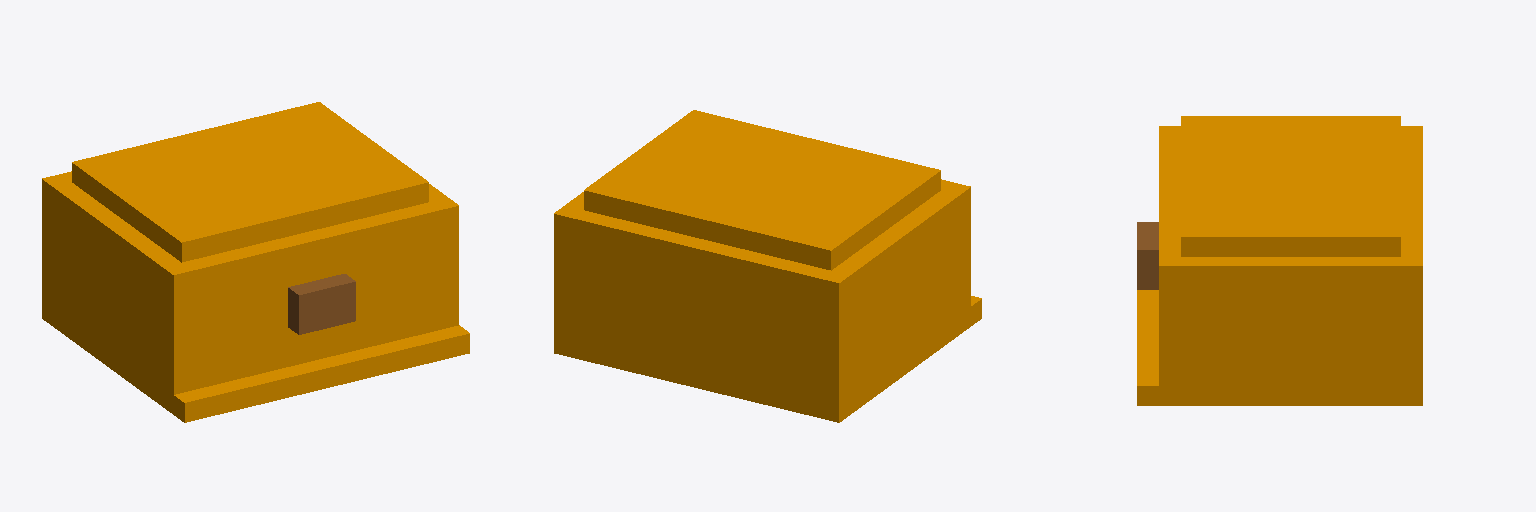
3 renders of one model, left to right at view 1: azimuth 30°, elevation 25°; view 2: azimuth 150°, elevation 25°; view 3: azimuth 270°, elevation 25°, orthographic.
Parts seen in each view (by area): view 1: breadBox; view 2: breadBox; view 3: breadBox.
Boxes of the visible parts, box(x1,y1,x2,y2) form: breadBox: box(42, 102, 469, 422); breadBox: box(554, 110, 981, 422); breadBox: box(1137, 116, 1422, 405).
Bounding box in the file's own units: 15 × 8 × 13.
Materials: 1 (1 with a texture image).